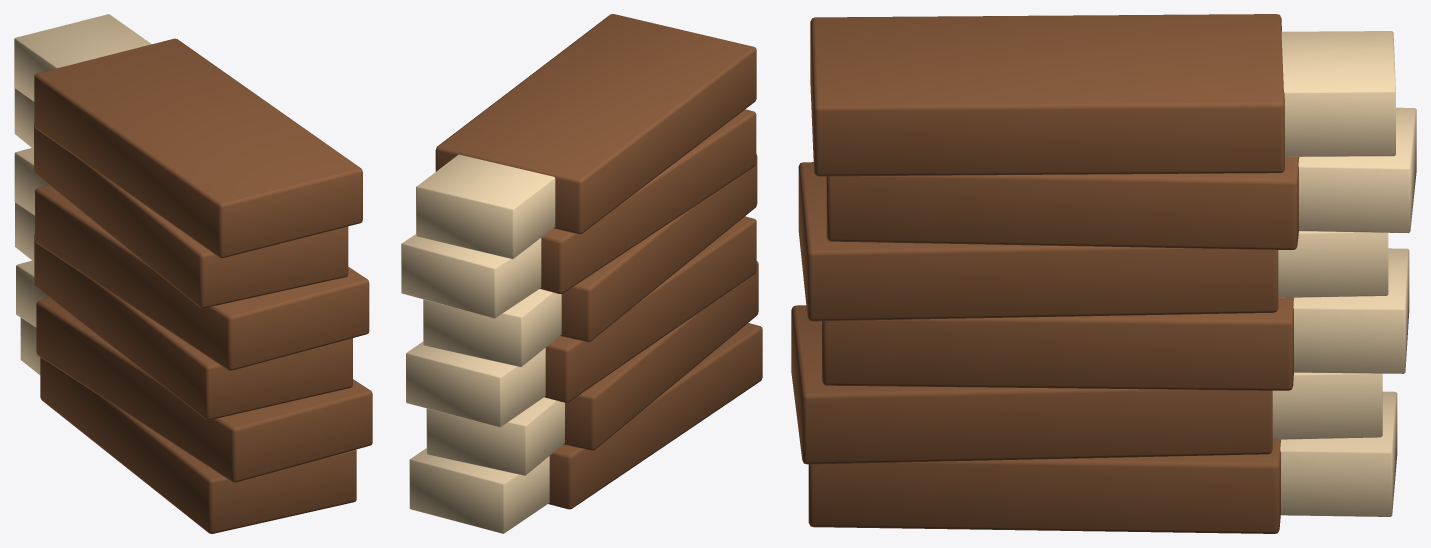
File: zone_library_book_tower.glb
3 renders of one model, left to right at view 1: azimuth 30°, elevation 25°; view 2: azimuth 150°, elevation 25°; view 3: azimuth 270°, elevation 25°, orthographic. The views are drawn at different scales.
Parts seen in each view (by area): view 1: zone_library_book_tower; view 2: zone_library_book_tower; view 3: zone_library_book_tower.
Part boxes in pixels (x1,y1,x2,y2): zone_library_book_tower: (14,14,372,533); zone_library_book_tower: (401,14,762,533); zone_library_book_tower: (791,14,1416,533).
Size of the model in its own units: 1.53 by 3 by 3.98.
